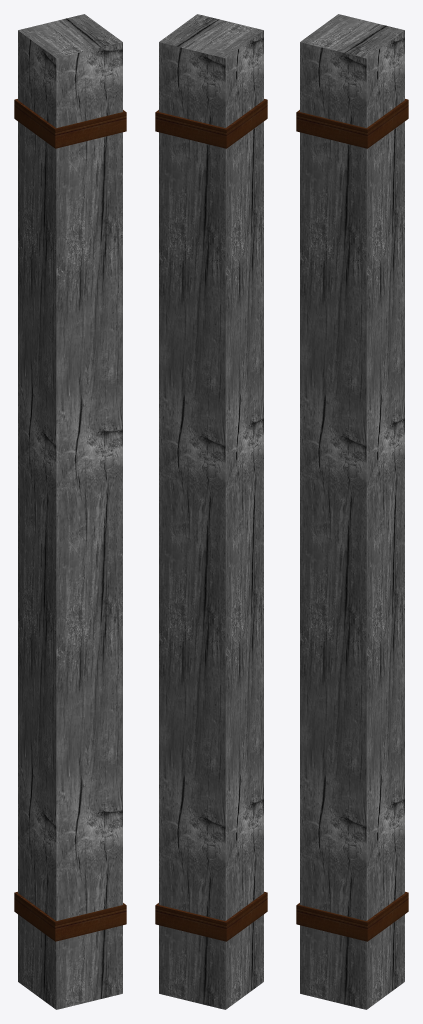
File: pilar_madera.glb
The picture shows the model from 3 angles, left to right: view 1: azimuth 30°, elevation 25°; view 2: azimuth 150°, elevation 25°; view 3: azimuth 330°, elevation 25°; orthographic projection.
Bounding box in the file's own units: 0.235 × 3 × 0.235.
Materials: 2 (2 with a texture image).
